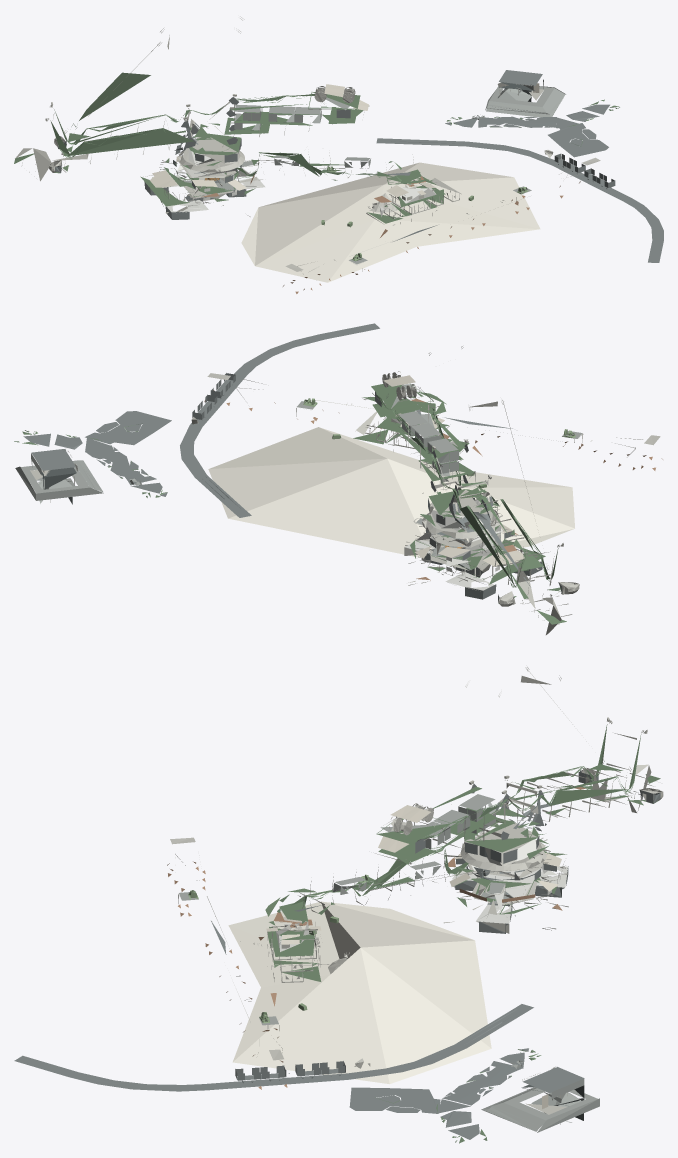
The model's file is excavator_1.glb.
The picture shows the model from 3 angles, top to bottom: view 1: azimuth 30°, elevation 25°; view 2: azimuth 150°, elevation 25°; view 3: azimuth 270°, elevation 25°; orthographic projection. The views are drawn at different scales.
Visible parts, largest first — view 1: dune1_LOD0, diesel_engine_LOD0, conveyor_bridge_LOD0, large_cable_roll_nobase_LOD0, bucket_excavator_LOD0; view 2: dune1_LOD0, diesel_engine_LOD0, large_cable_roll_nobase_LOD0, conveyor_bridge_LOD0, bucket_excavator_LOD0; view 3: dune1_LOD0, diesel_engine_LOD0, large_cable_roll_nobase_LOD0, conveyor_bridge_LOD0, bucket_excavator_LOD0, stairs_250_LOD0.
Boxes of the visible parts, bbox=[...] form: dune1_LOD0: bbox=[241, 162, 540, 282]; diesel_engine_LOD0: bbox=[55, 70, 663, 262]; conveyor_bridge_LOD0: bbox=[14, 72, 619, 223]; large_cable_roll_nobase_LOD0: bbox=[15, 16, 600, 274]; bucket_excavator_LOD0: bbox=[149, 83, 539, 196]; dune1_LOD0: bbox=[208, 427, 574, 557]; diesel_engine_LOD0: bbox=[23, 323, 562, 601]; large_cable_roll_nobase_LOD0: bbox=[15, 346, 660, 634]; conveyor_bridge_LOD0: bbox=[14, 383, 566, 624]; bucket_excavator_LOD0: bbox=[43, 375, 524, 566]; dune1_LOD0: bbox=[228, 901, 491, 1084]; diesel_engine_LOD0: bbox=[14, 770, 660, 1139]; large_cable_roll_nobase_LOD0: bbox=[170, 667, 663, 1132]; conveyor_bridge_LOD0: bbox=[265, 724, 660, 1143]; bucket_excavator_LOD0: bbox=[266, 805, 561, 1109]; stairs_250_LOD0: bbox=[167, 787, 585, 1089].
Bounding box in the file's own units: 213 × 71.57 × 171.
